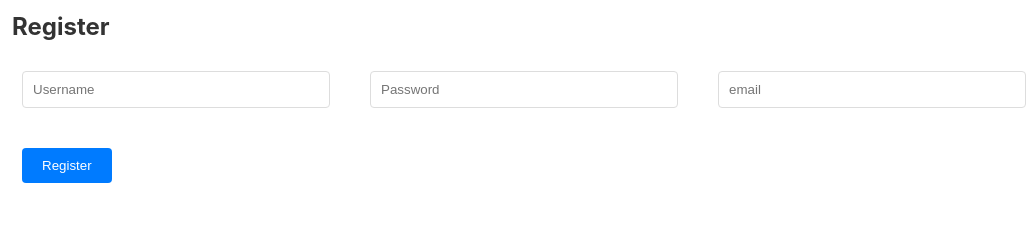
it: Register component renders and handles registration
In the field with placeholder "Username": (176, 89) [22,71,330,108], type "testuser"
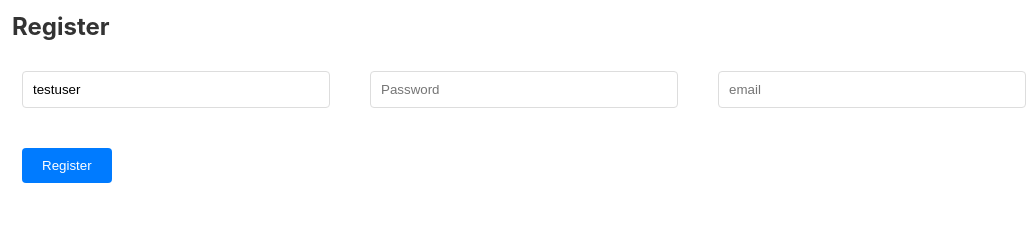
In the password field with placeholder "Password": (524, 89) [370,71,678,108], type "Password1!"
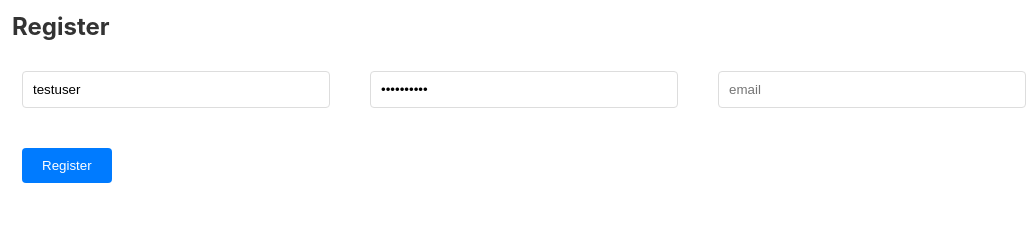
In the field with placeholder "email": (872, 89) [718,71,1026,108], type "testuser@example.com"
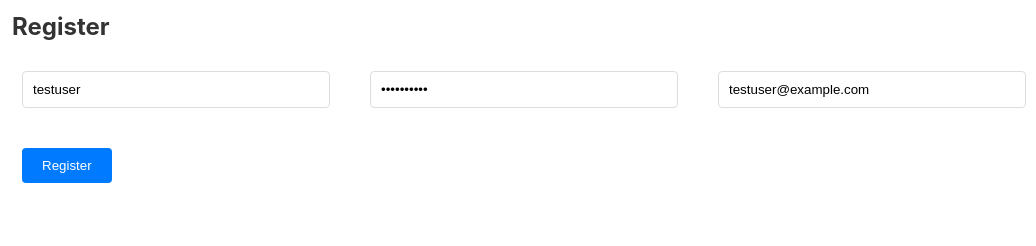
Click the button "Register": click(67, 165) [22,148,112,183]
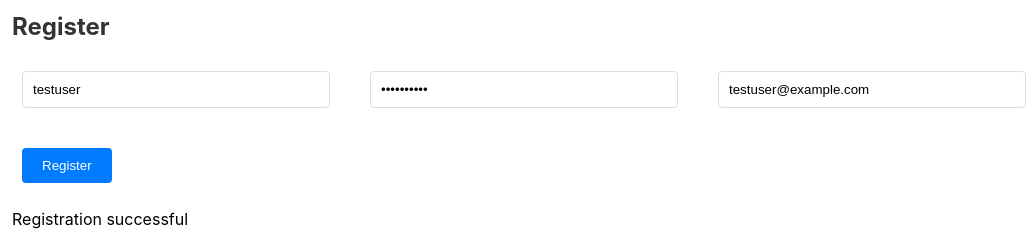
Result: the text "Registration successful" is shown at [12,209,188,229]
